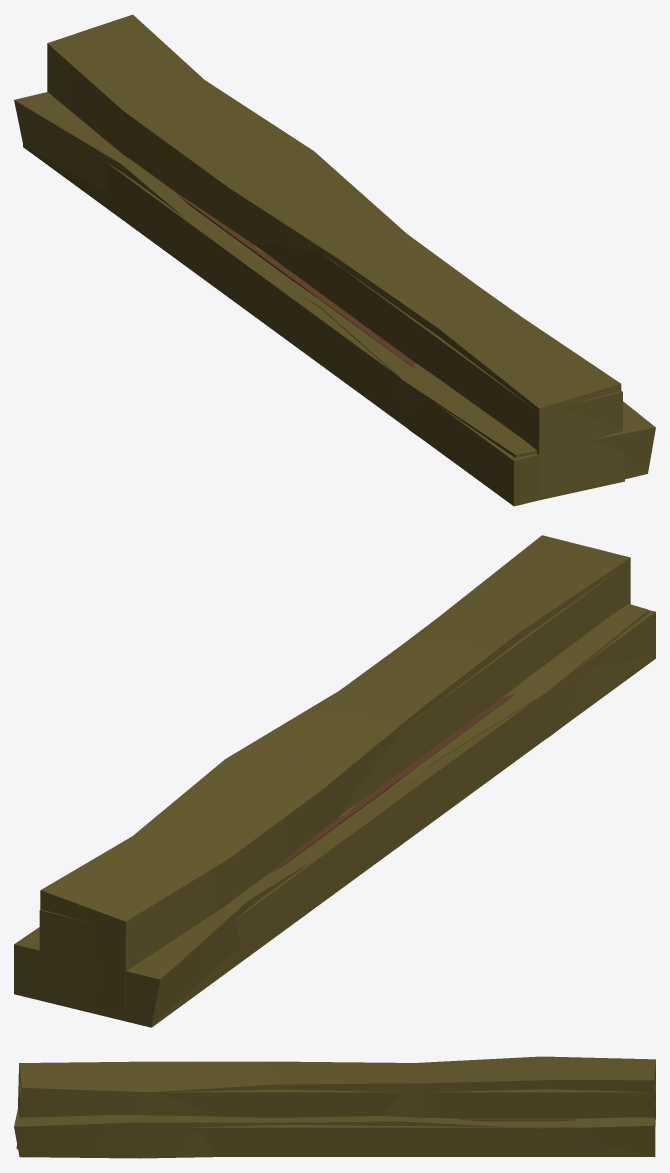
The model's file is Debris.fbx.
3 views of the same model, one above another, from view 1: azimuth 30°, elevation 25°; view 2: azimuth 150°, elevation 25°; view 3: azimuth 270°, elevation 25° (orthographic). The views are drawn at different scales.
Visible parts, largest first — view 1: Beam02A, Plank01A, Plank02A, Beam01A, Plank03B; view 2: Beam02A, Plank01A, Plank02A, Beam01A, Plank03B; view 3: Beam02A, Plank02A, Plank01A, Beam01A, Plank03B.
Boxes of the visible parts, x1=… form: Beam02A: x1=47, y1=14, x2=624, y2=500; Plank01A: x1=23, y1=144, x2=647, y2=506; Plank02A: x1=14, y1=92, x2=655, y2=502; Beam01A: x1=256, y1=235, x2=622, y2=454; Plank03B: x1=177, y1=194, x2=415, y2=368; Beam02A: x1=40, y1=535, x2=630, y2=1012; Plank01A: x1=14, y1=610, x2=655, y2=1027; Plank02A: x1=14, y1=604, x2=655, y2=1024; Beam01A: x1=39, y1=562, x2=630, y2=1020; Plank03B: x1=270, y1=694, x2=515, y2=872; Beam02A: x1=16, y1=1056, x2=655, y2=1149; Plank02A: x1=14, y1=1099, x2=655, y2=1158; Plank01A: x1=187, y1=1121, x2=653, y2=1156; Beam01A: x1=19, y1=1075, x2=655, y2=1118; Plank03B: x1=457, y1=1118, x2=575, y2=1120.
Size of the model in its own units: 0.346 by 0.2398 by 2.02.
